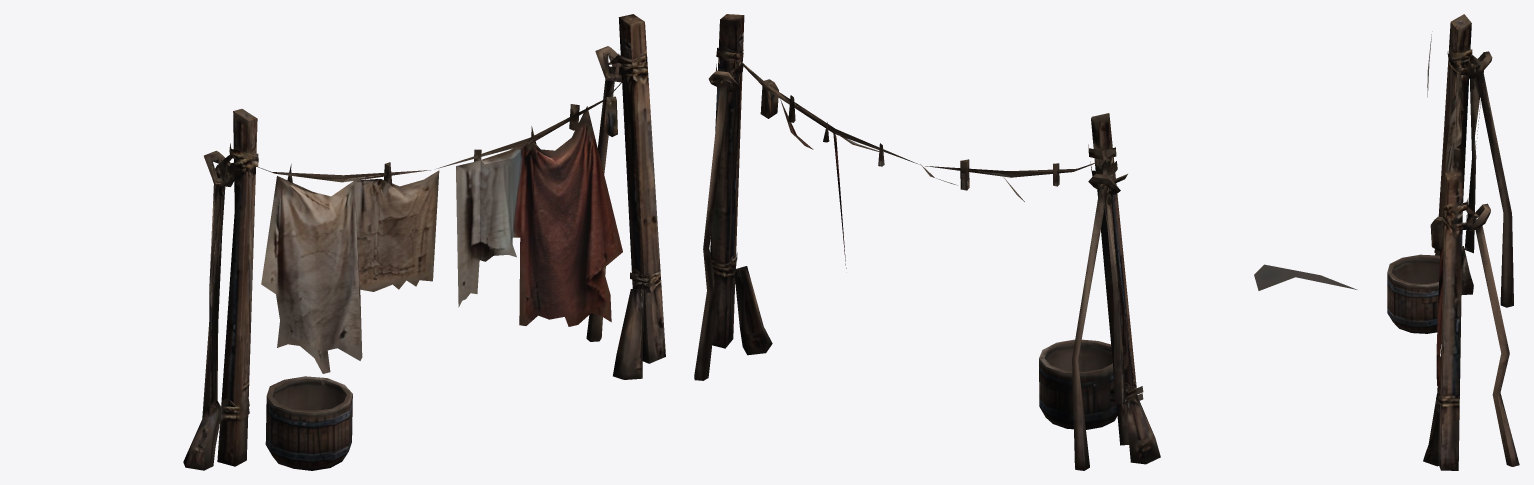
File: legacy_camp-crafts_laundry_line.glb
3 renders of one model, left to right at view 1: azimuth 30°, elevation 25°; view 2: azimuth 150°, elevation 25°; view 3: azimuth 270°, elevation 25°, orthographic. The views are drawn at different scales.
Parts seen in each view (by area): view 1: L_camp-crafts_laundry_line; view 2: L_camp-crafts_laundry_line; view 3: L_camp-crafts_laundry_line.
Part boxes in pixels (x1,y1,x2,y2): L_camp-crafts_laundry_line: [183, 14, 665, 470]; L_camp-crafts_laundry_line: [694, 14, 1357, 470]; L_camp-crafts_laundry_line: [1387, 14, 1519, 470].
Bounding box in the file's own units: 4.1 × 2.08 × 0.85.
Materials: 1 (1 with a texture image).
